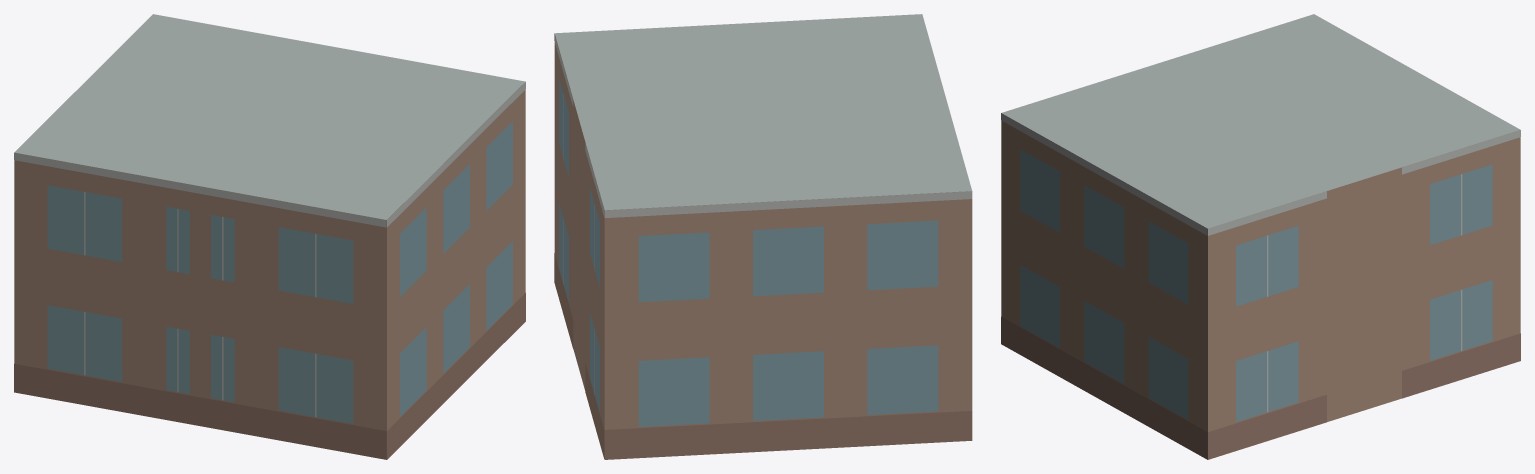
Rendered from survey-upis-32747180.glb.
The picture shows the model from 3 angles, left to right: view 1: azimuth 30°, elevation 25°; view 2: azimuth 150°, elevation 25°; view 3: azimuth 270°, elevation 25°; orthographic projection. The views are drawn at different scales.
Visible parts, largest first — view 1: survey-upis-32747180.tmp; view 2: survey-upis-32747180.tmp; view 3: survey-upis-32747180.tmp.
Boxes of the visible parts, bbox=[...] form: survey-upis-32747180.tmp: bbox=[14, 14, 525, 459]; survey-upis-32747180.tmp: bbox=[554, 14, 972, 459]; survey-upis-32747180.tmp: bbox=[1001, 14, 1520, 459].
Size of the model in its own units: 15.34 by 7.7 by 15.69.
